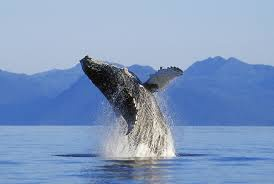humpback: (79, 55, 176, 156)
